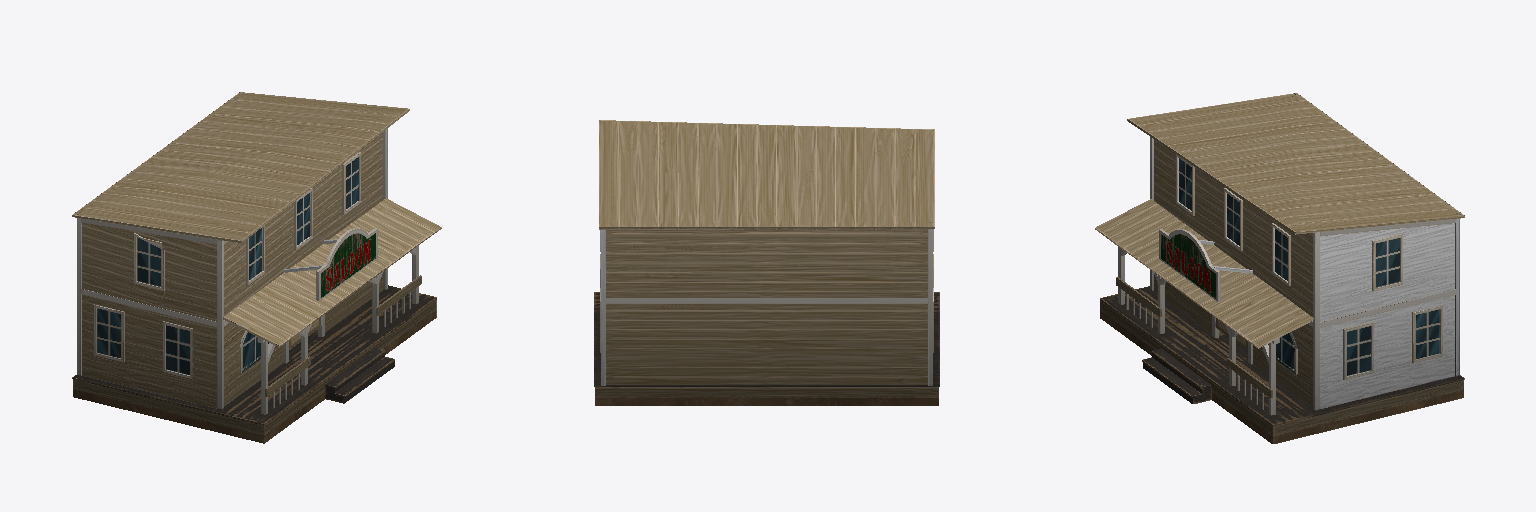
The picture shows the model from 3 angles: view 1: azimuth 30°, elevation 25°; view 2: azimuth 150°, elevation 25°; view 3: azimuth 270°, elevation 25°; orthographic projection.
Parts seen in each view (by area): view 1: SaloonFBXASC046002 group1; view 2: SaloonFBXASC046002 group1; view 3: SaloonFBXASC046002 group1.
Boxes of the visible parts, x1,y1,x2,y2 form: SaloonFBXASC046002 group1: [72, 92, 441, 443]; SaloonFBXASC046002 group1: [594, 120, 939, 405]; SaloonFBXASC046002 group1: [1095, 93, 1464, 443].
Size of the model in its own units: 16.9 by 9.28 by 15.22.
1 materials, 1 textured.